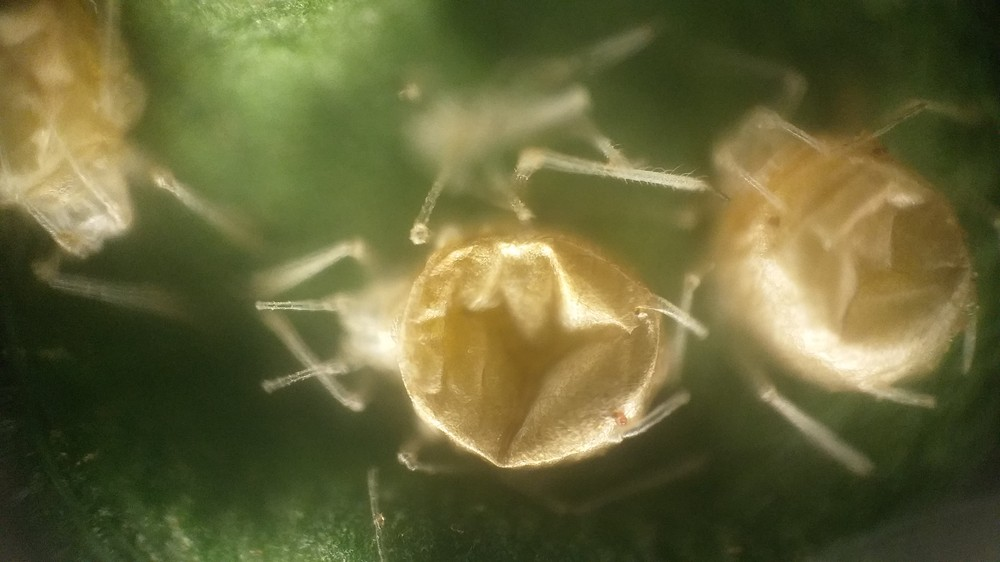Pulgon: (254, 142, 725, 516), (671, 54, 1000, 477), (1, 1, 284, 309)
